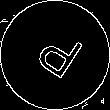P_SW: (25, 24, 85, 86)
